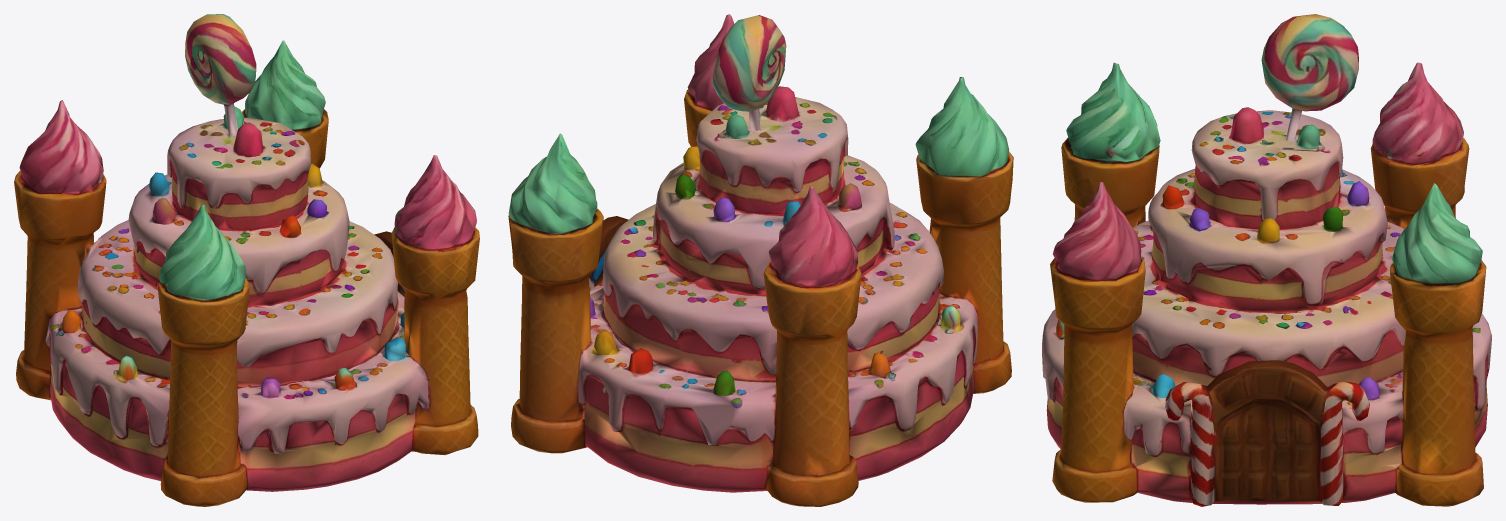
File: candy-castle-lod-BIVuq9GC.glb
3 views of the same model, side by side, from view 1: azimuth 30°, elevation 25°; view 2: azimuth 150°, elevation 25°; view 3: azimuth 270°, elevation 25° (orthographic). The views are drawn at different scales.
Visible parts, largest first — view 1: tripo_node_11ecc58e-0eb2-468f-9cff-08d60c718cab; view 2: tripo_node_11ecc58e-0eb2-468f-9cff-08d60c718cab; view 3: tripo_node_11ecc58e-0eb2-468f-9cff-08d60c718cab.
Part boxes in pixels (x1,y1,x2,y2): tripo_node_11ecc58e-0eb2-468f-9cff-08d60c718cab: (14, 14, 479, 506); tripo_node_11ecc58e-0eb2-468f-9cff-08d60c718cab: (508, 14, 1013, 506); tripo_node_11ecc58e-0eb2-468f-9cff-08d60c718cab: (1042, 14, 1491, 506).
Size of the model in its own units: 0.9006 by 0.9985 by 0.9917.
Materials: 1 (1 with a texture image).
